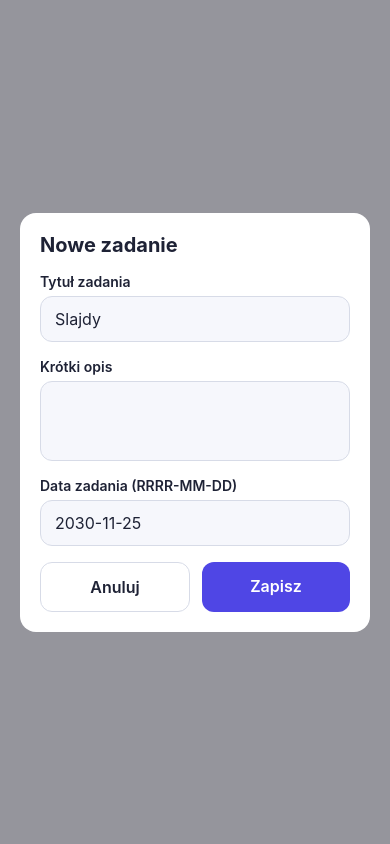
Test: Dodawanie zadania › odrzuca nieistniejący dzień zamiast przesuwać go na kolejny miesiąc
The image size is (390, 844).
Earlier steps of the test are not shown.
Replace the text in the field named "Data zadania (RRRR-MM-DD)" with "2030-02-30". click: (195, 522)
box: [40,500,350,546]
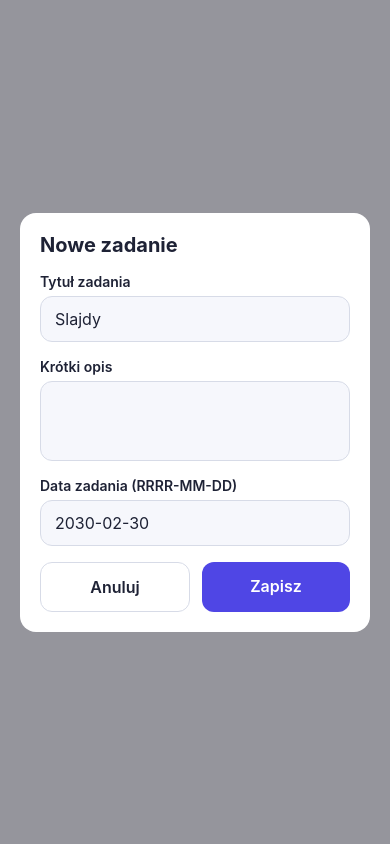
Click the button "Zapisz". click: (276, 586)
box: [202,562,350,612]
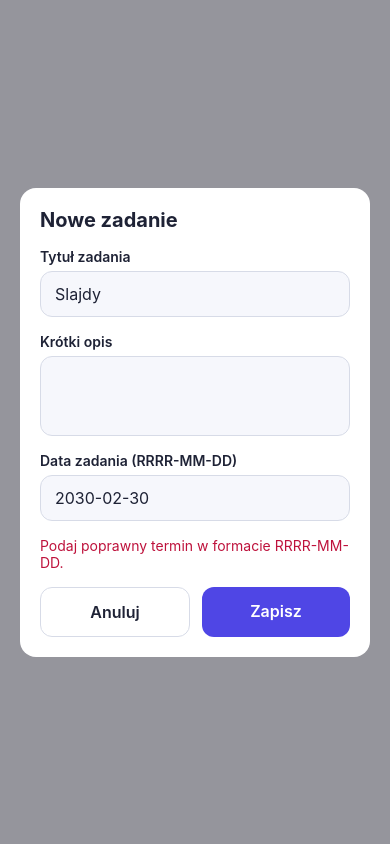
Expected: the text "Podaj poprawny termin w formacie RRRR-MM-DD." is shown, [40,536,350,570]
